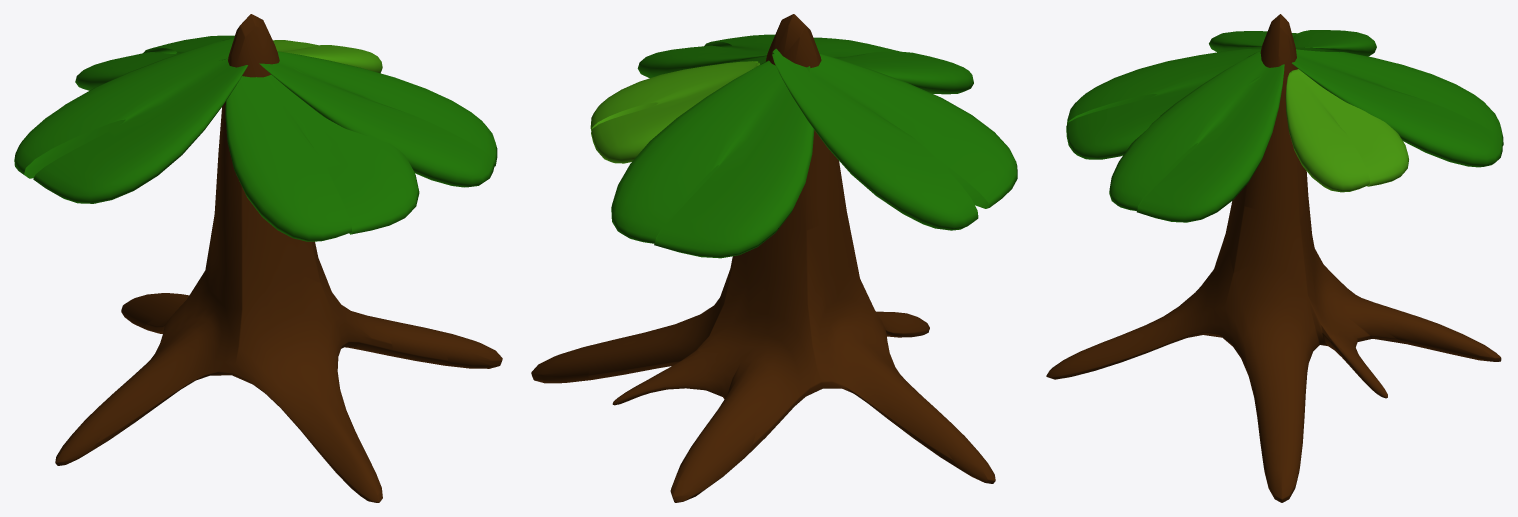
The model's file is PalmTree.fbx.
3 renders of one model, left to right at view 1: azimuth 30°, elevation 25°; view 2: azimuth 150°, elevation 25°; view 3: azimuth 270°, elevation 25°, orthographic. The views are drawn at different scales.
Visible parts, largest first — view 1: Trunk, Leaf.001, Leaf, Leaf.002, Leaf.003, Leaf.004; view 2: Trunk, Leaf.003, Leaf, Leaf.004, Leaf.001, Leaf.002; view 3: Trunk, Leaf.002, Leaf.003, Leaf.004, Leaf.001, Leaf.
Boxes of the visible parts, <box> form: Trunk: <box>55,14,502,502</box>; Leaf.001: <box>225,67,419,241</box>; Leaf: <box>14,37,247,203</box>; Leaf.002: <box>259,51,497,187</box>; Leaf.003: <box>75,35,234,90</box>; Leaf.004: <box>273,40,382,73</box>; Trunk: <box>531,14,995,502</box>; Leaf.003: <box>611,60,814,258</box>; Leaf: <box>772,48,1017,230</box>; Leaf.004: <box>590,61,759,163</box>; Leaf.001: <box>813,37,973,94</box>; Leaf.002: <box>637,34,774,77</box>; Trunk: <box>1046,14,1501,502</box>; Leaf.002: <box>1109,50,1284,222</box>; Leaf.003: <box>1292,49,1503,167</box>; Leaf.004: <box>1285,69,1408,192</box>; Leaf.001: <box>1066,49,1261,159</box>; Leaf: <box>1209,30,1376,56</box>.
Size of the model in its own units: 649 by 561 by 616.
